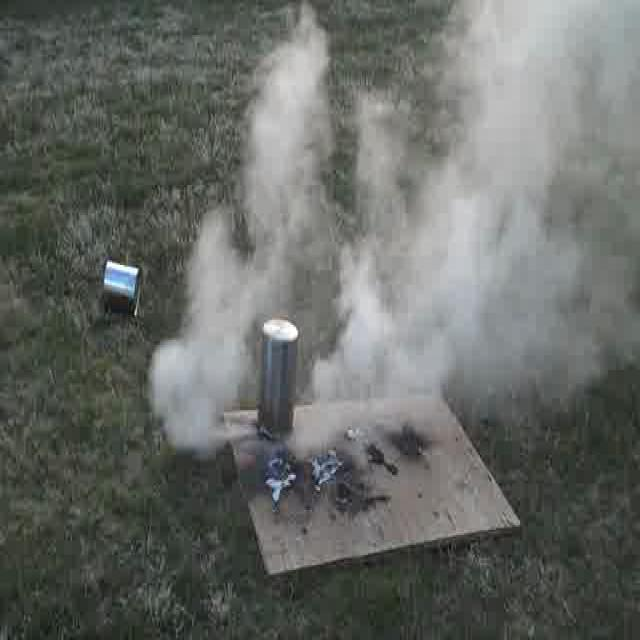Smoke: (344, 2, 640, 406), (152, 225, 258, 455)
